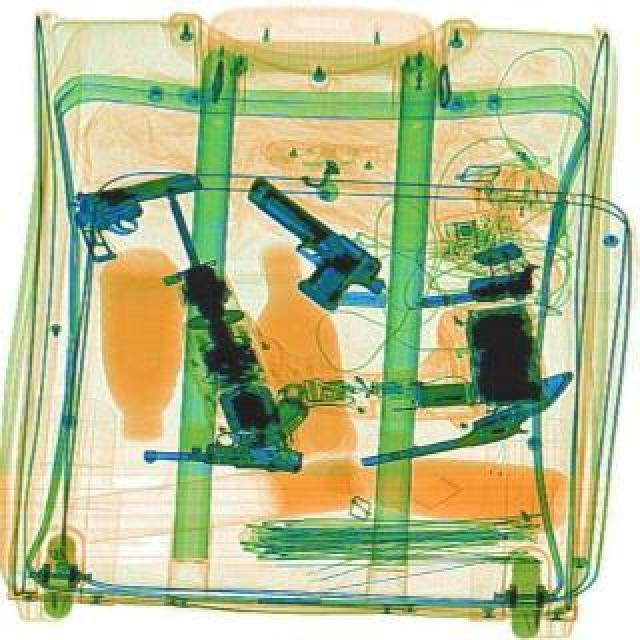gun: (210, 174, 394, 326), (348, 370, 580, 470), (138, 386, 308, 474), (66, 166, 214, 266), (458, 262, 538, 302)
